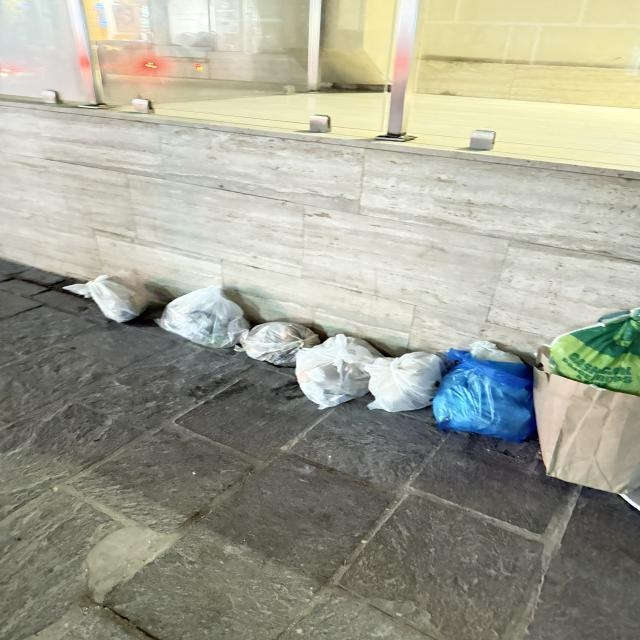Organic Waste -White Bags-: (240, 322, 447, 412), (550, 307, 640, 397), (63, 275, 149, 323)
